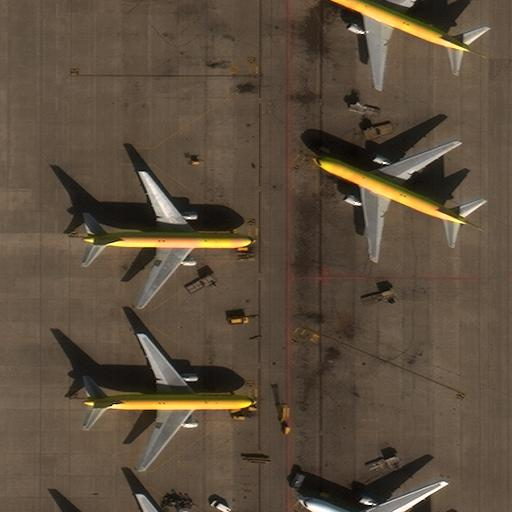Large Civil Transport: (83, 169, 252, 307), (83, 334, 252, 471), (314, 138, 468, 259), (323, 0, 469, 90), (298, 481, 444, 512)
